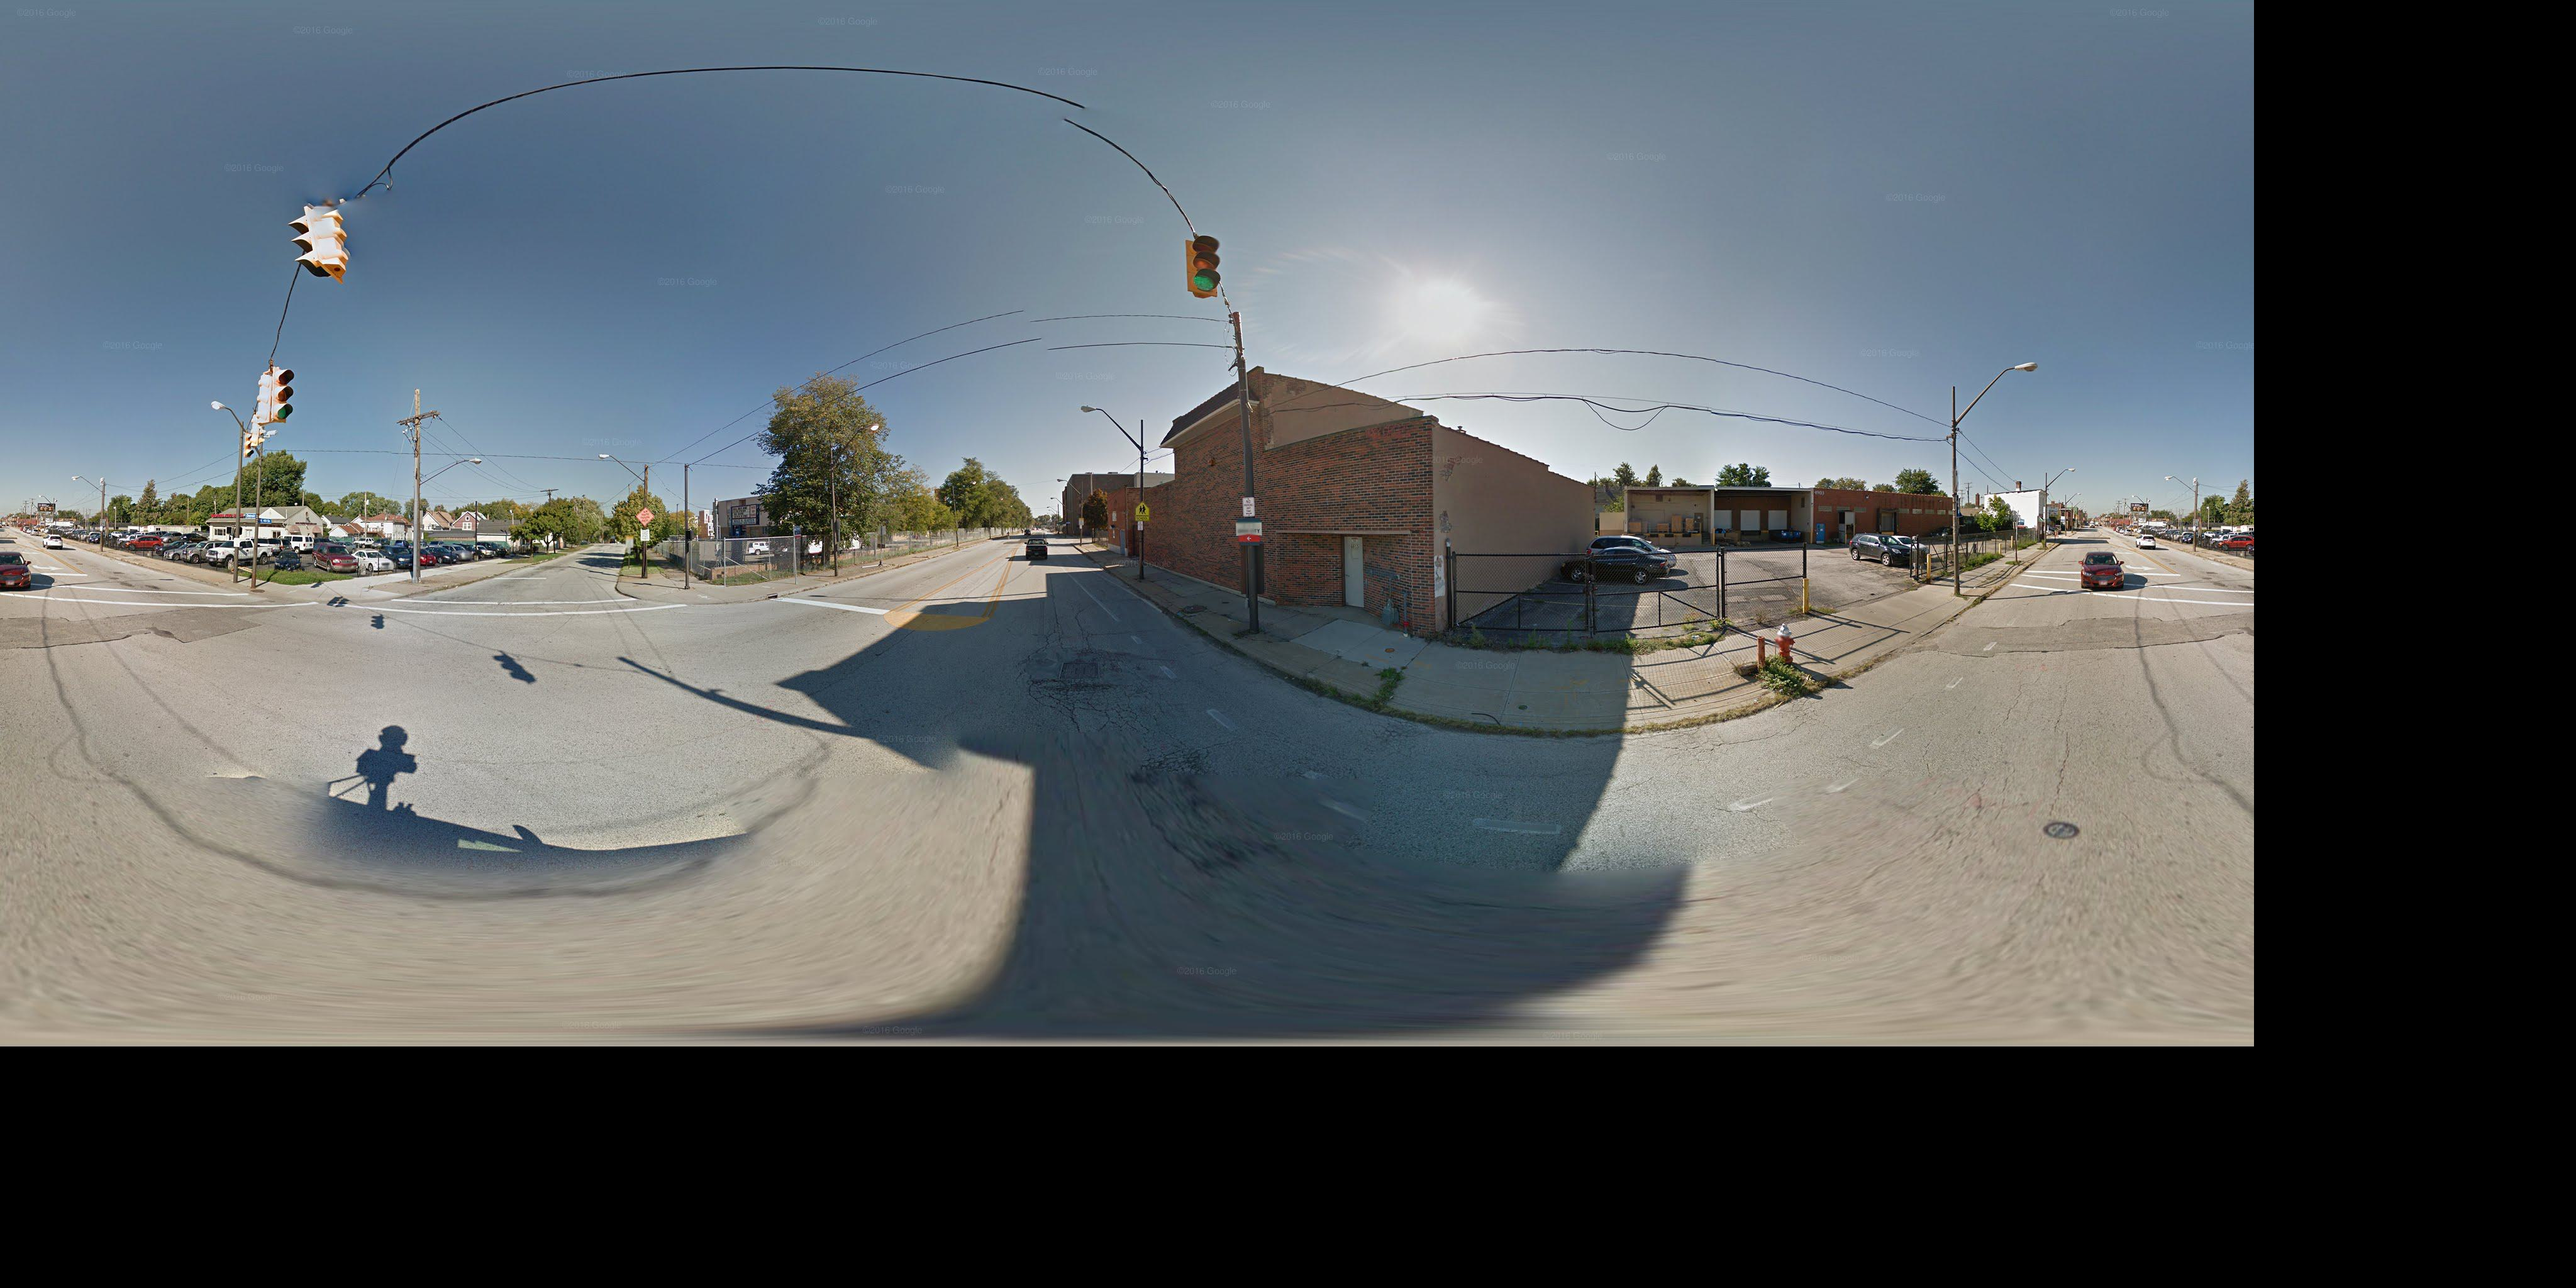Curb Ramp: (631, 583, 683, 618)
Irregular Ramp: (325, 586, 391, 611), (258, 585, 314, 609), (1986, 563, 2029, 590)
